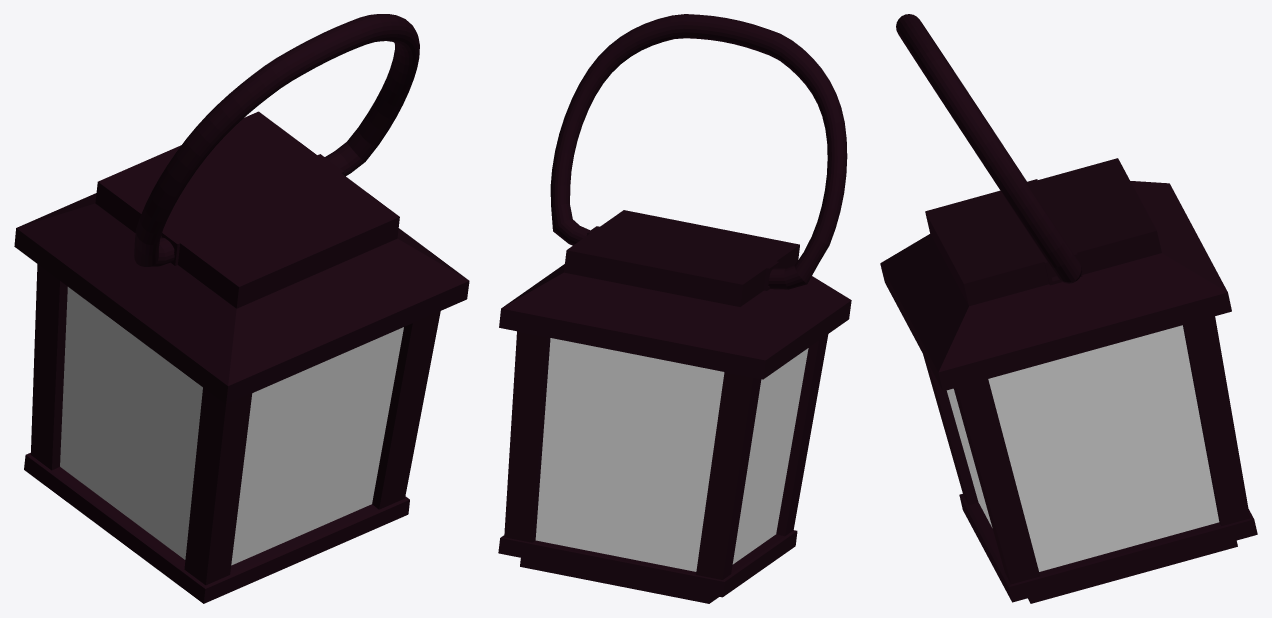
Rendered from Handlaterne.fbx.
The picture shows the model from 3 angles, left to right: view 1: azimuth 30°, elevation 25°; view 2: azimuth 150°, elevation 25°; view 3: azimuth 270°, elevation 25°; orthographic projection. The views are drawn at different scales.
Parts seen in each view (by area): view 1: Laterne; view 2: Laterne; view 3: Laterne.
Part boxes in pixels (left/top/right/bottom): Laterne: left=14, top=14, right=469, bottom=603; Laterne: left=498, top=14, right=851, bottom=603; Laterne: left=880, top=14, right=1257, bottom=603.
Size of the model in its own units: 106 by 176 by 113.
